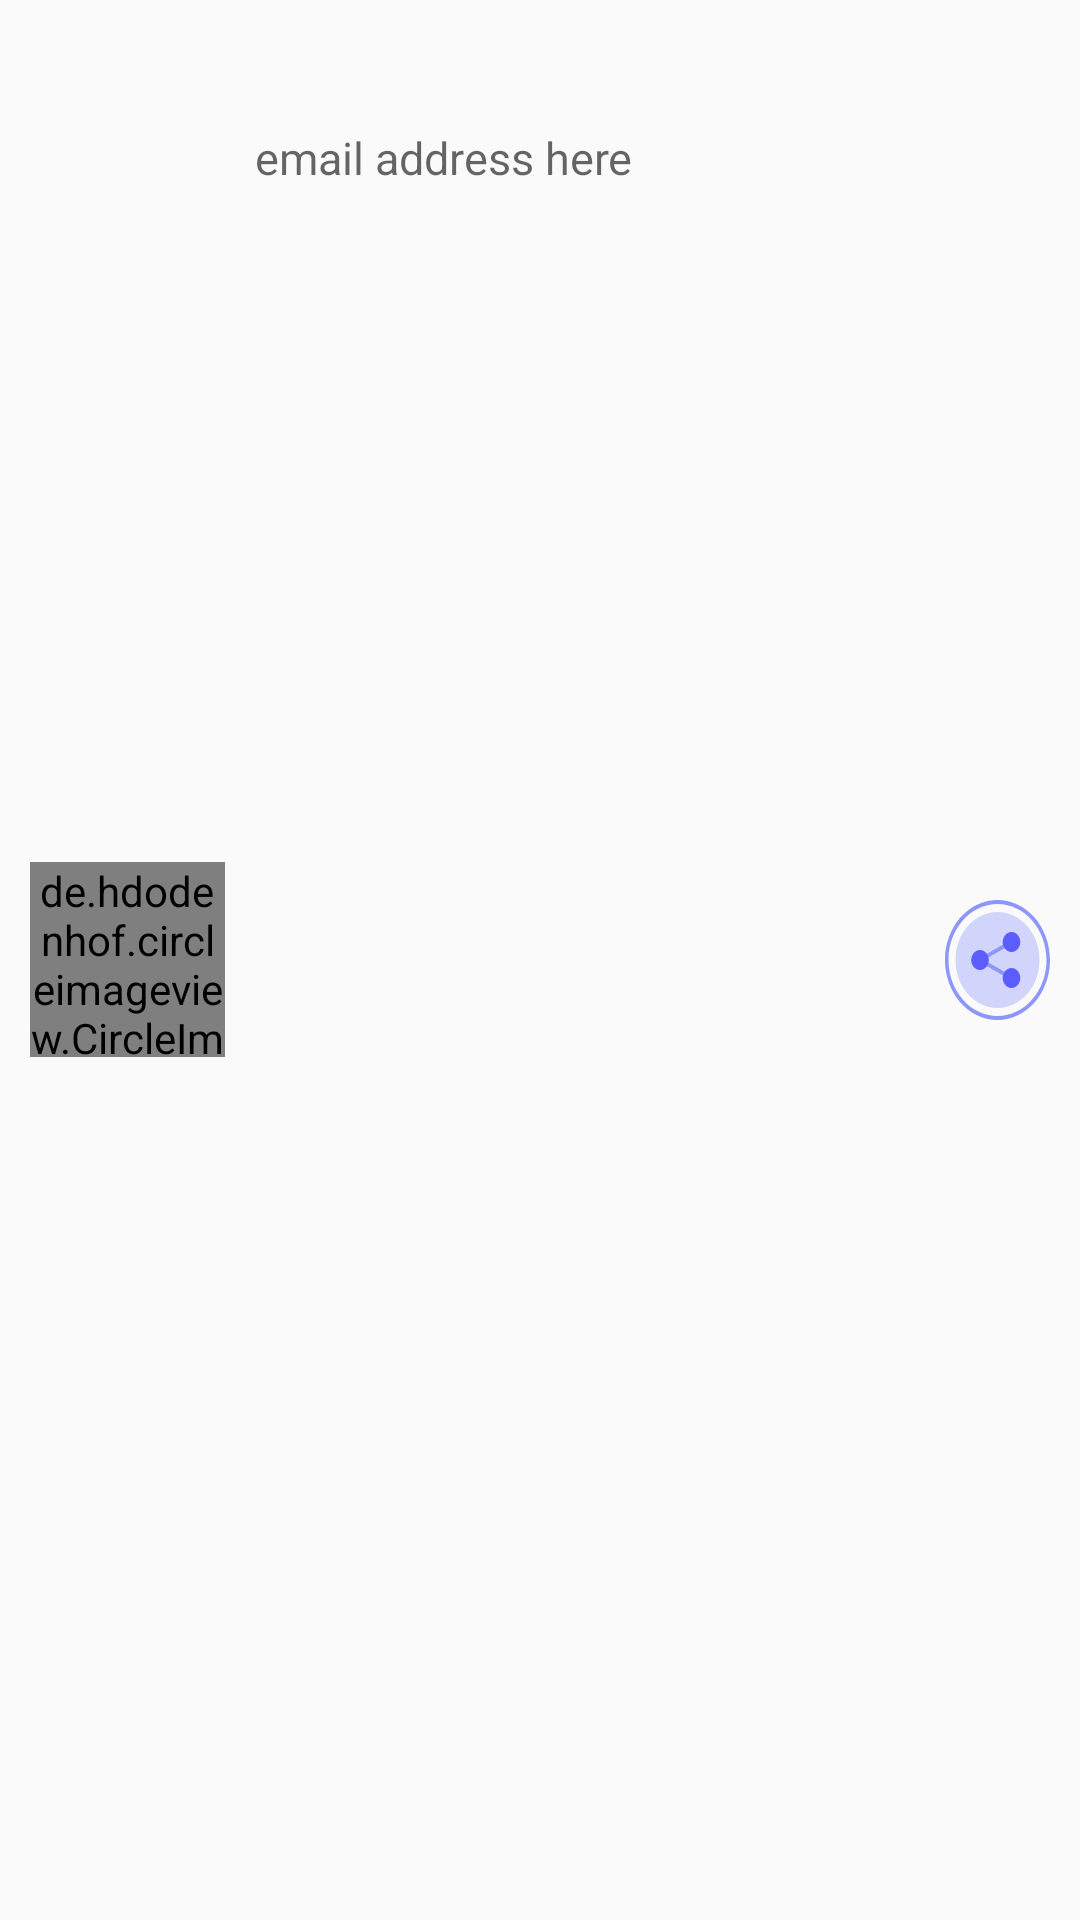

Named icons in this screenshot (1080px×1920px) and their bounding boxes, (x1, y1, x2, y2):
share: (945, 900, 1050, 1020)
